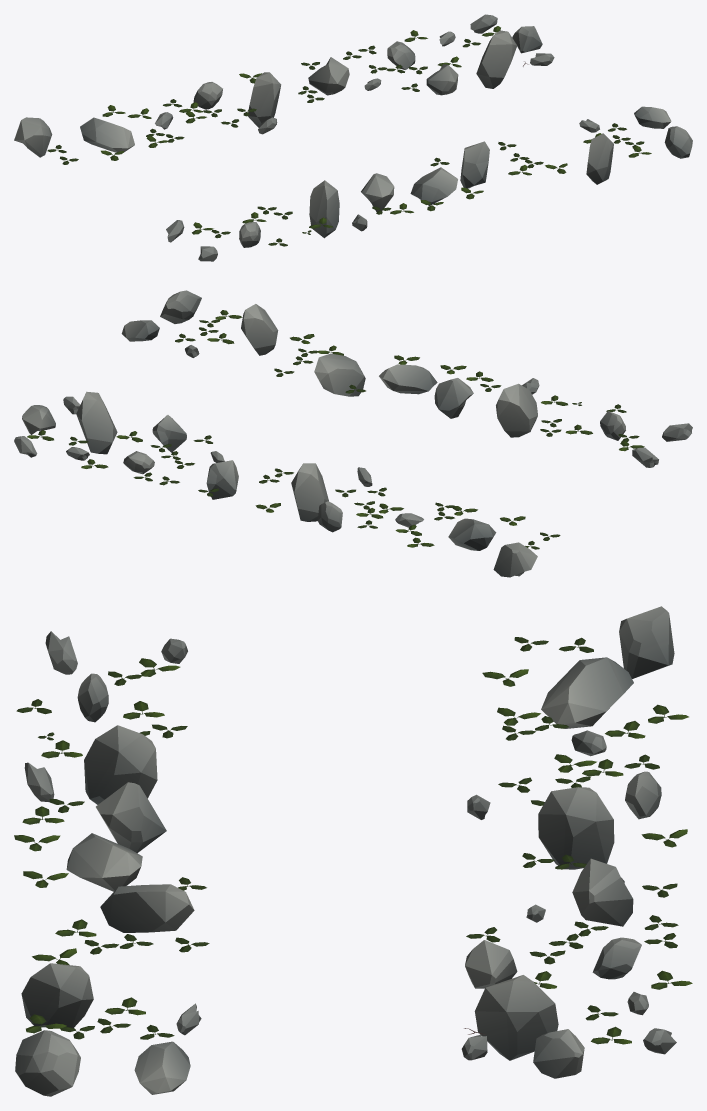
File: SM_Nature_Props_Scatter_Rocks_Leave_Only_For_Chara.fbx
The picture shows the model from 3 angles, top to bottom: view 1: azimuth 30°, elevation 25°; view 2: azimuth 150°, elevation 25°; view 3: azimuth 270°, elevation 25°; orthographic projection. The views are drawn at different scales.
Visible parts, largest first — view 1: SM_Nature_Props_Scatter_Rocks_Leave_Only_For_Chara; view 2: SM_Nature_Props_Scatter_Rocks_Leave_Only_For_Chara; view 3: SM_Nature_Props_Scatter_Rocks_Leave_Only_For_Chara.
Boxes of the visible parts, box(x1,y1,x2,y2) form: SM_Nature_Props_Scatter_Rocks_Leave_Only_For_Chara: box(14, 14, 692, 261); SM_Nature_Props_Scatter_Rocks_Leave_Only_For_Chara: box(14, 290, 692, 577); SM_Nature_Props_Scatter_Rocks_Leave_Only_For_Chara: box(14, 606, 692, 1096).
Size of the model in its own units: 15.25 by 1.47 by 9.62.
